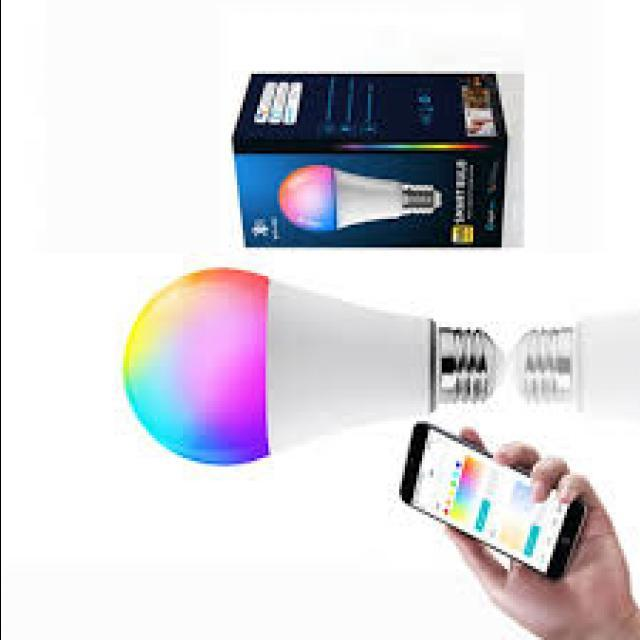light_bulb: (109, 257, 507, 475)
